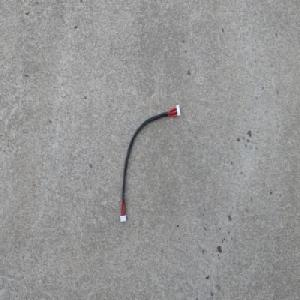Wire: (118, 103, 181, 226)
